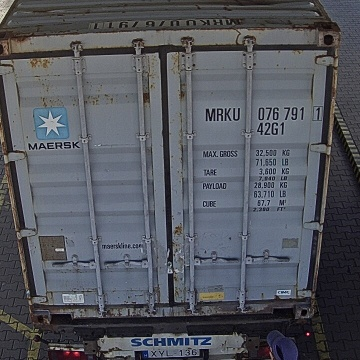serial_id: (206, 106, 322, 120)
